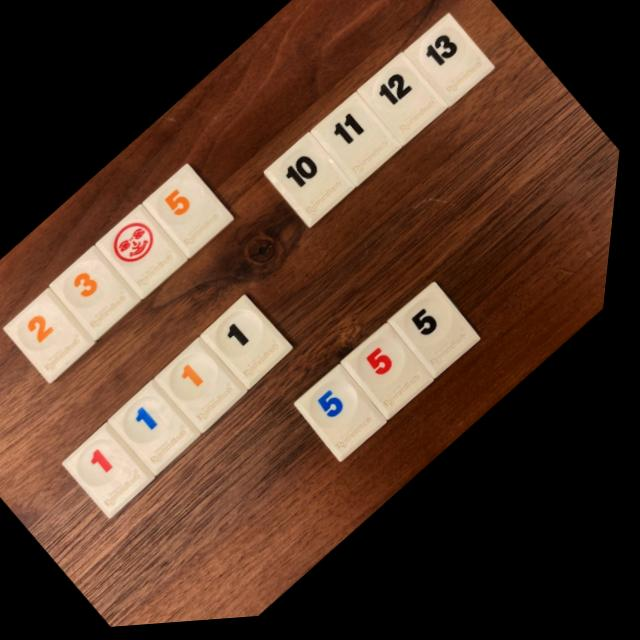black_1: (208, 299, 301, 393)
black_10: (268, 136, 360, 232)
black_11: (314, 98, 406, 191)
black_12: (359, 58, 450, 152)
black_13: (406, 20, 497, 112)
black_5: (395, 289, 488, 385)
blue_1: (117, 382, 210, 478)
blue_5: (304, 369, 397, 467)
joker: (101, 206, 193, 301)
orange_1: (163, 340, 256, 436)
orange_2: (10, 289, 103, 384)
orange_3: (56, 246, 148, 342)
orange_5: (147, 166, 239, 261)
red_1: (72, 424, 165, 520)
red_5: (350, 330, 443, 425)
